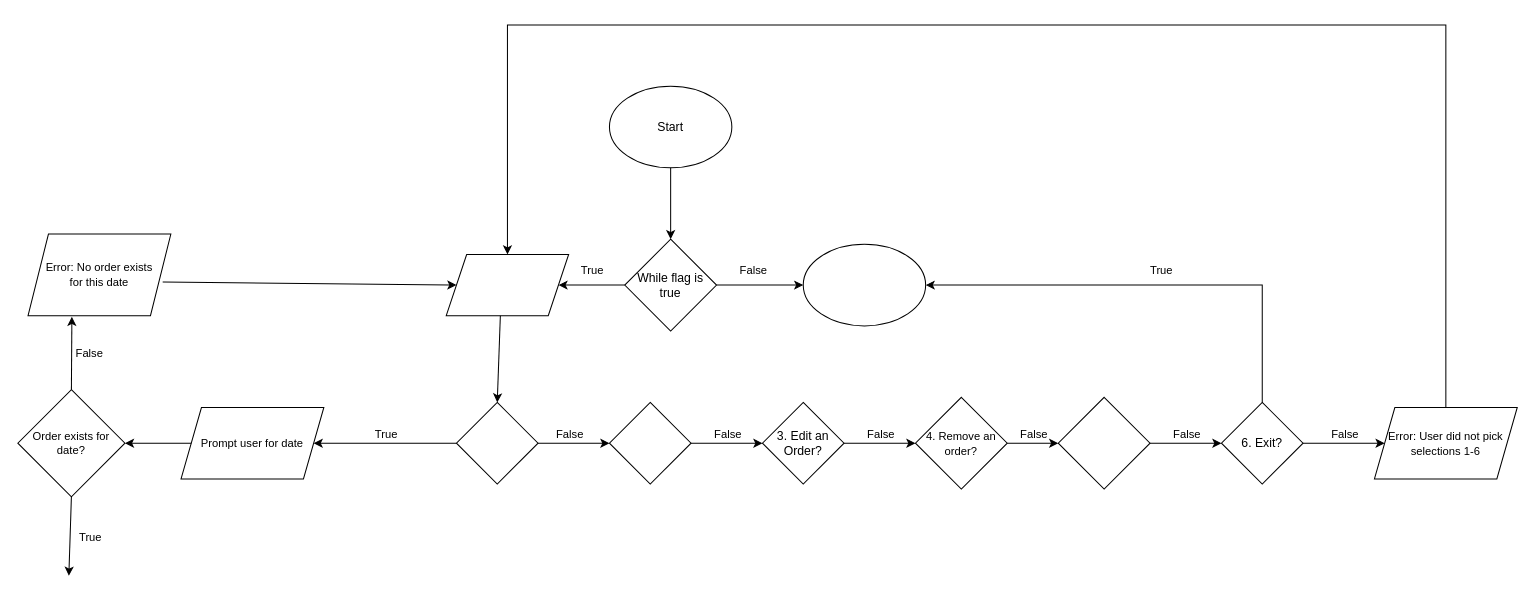
The diagram is 1535 pixels wide and 602 high, and some of its shapes have lost their labels. Here are the shapes that lost their labels. From the top down, the centre of each, then its label:
[507,284]: prompt user for selection
[864,284]: Exit
[496,442]: 1. Display Order?
[649,442]: 2. Add an order?
[1103,442]: 5. Export all data?
